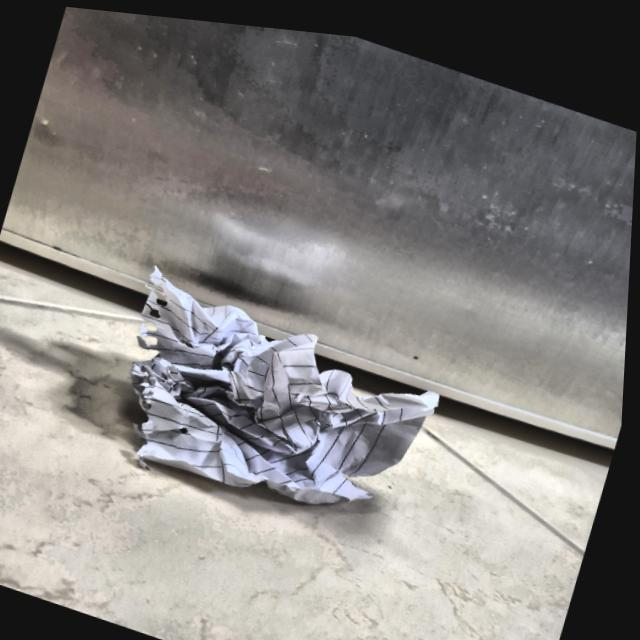Paper: (85, 270, 458, 551)
